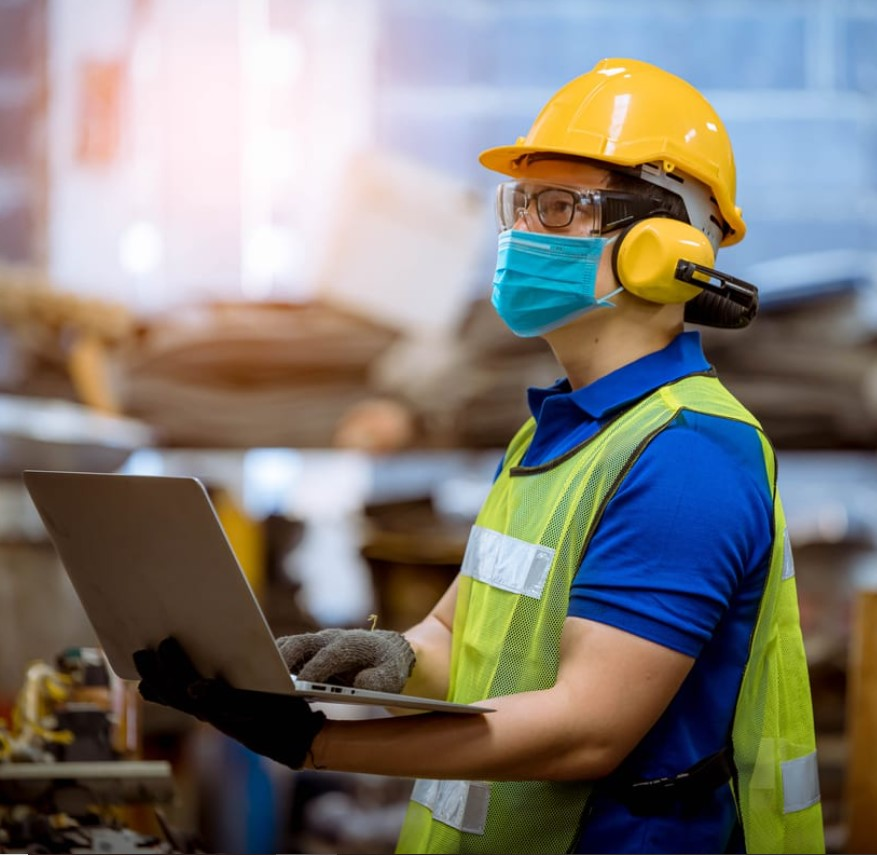worker: (401, 59, 823, 855)
